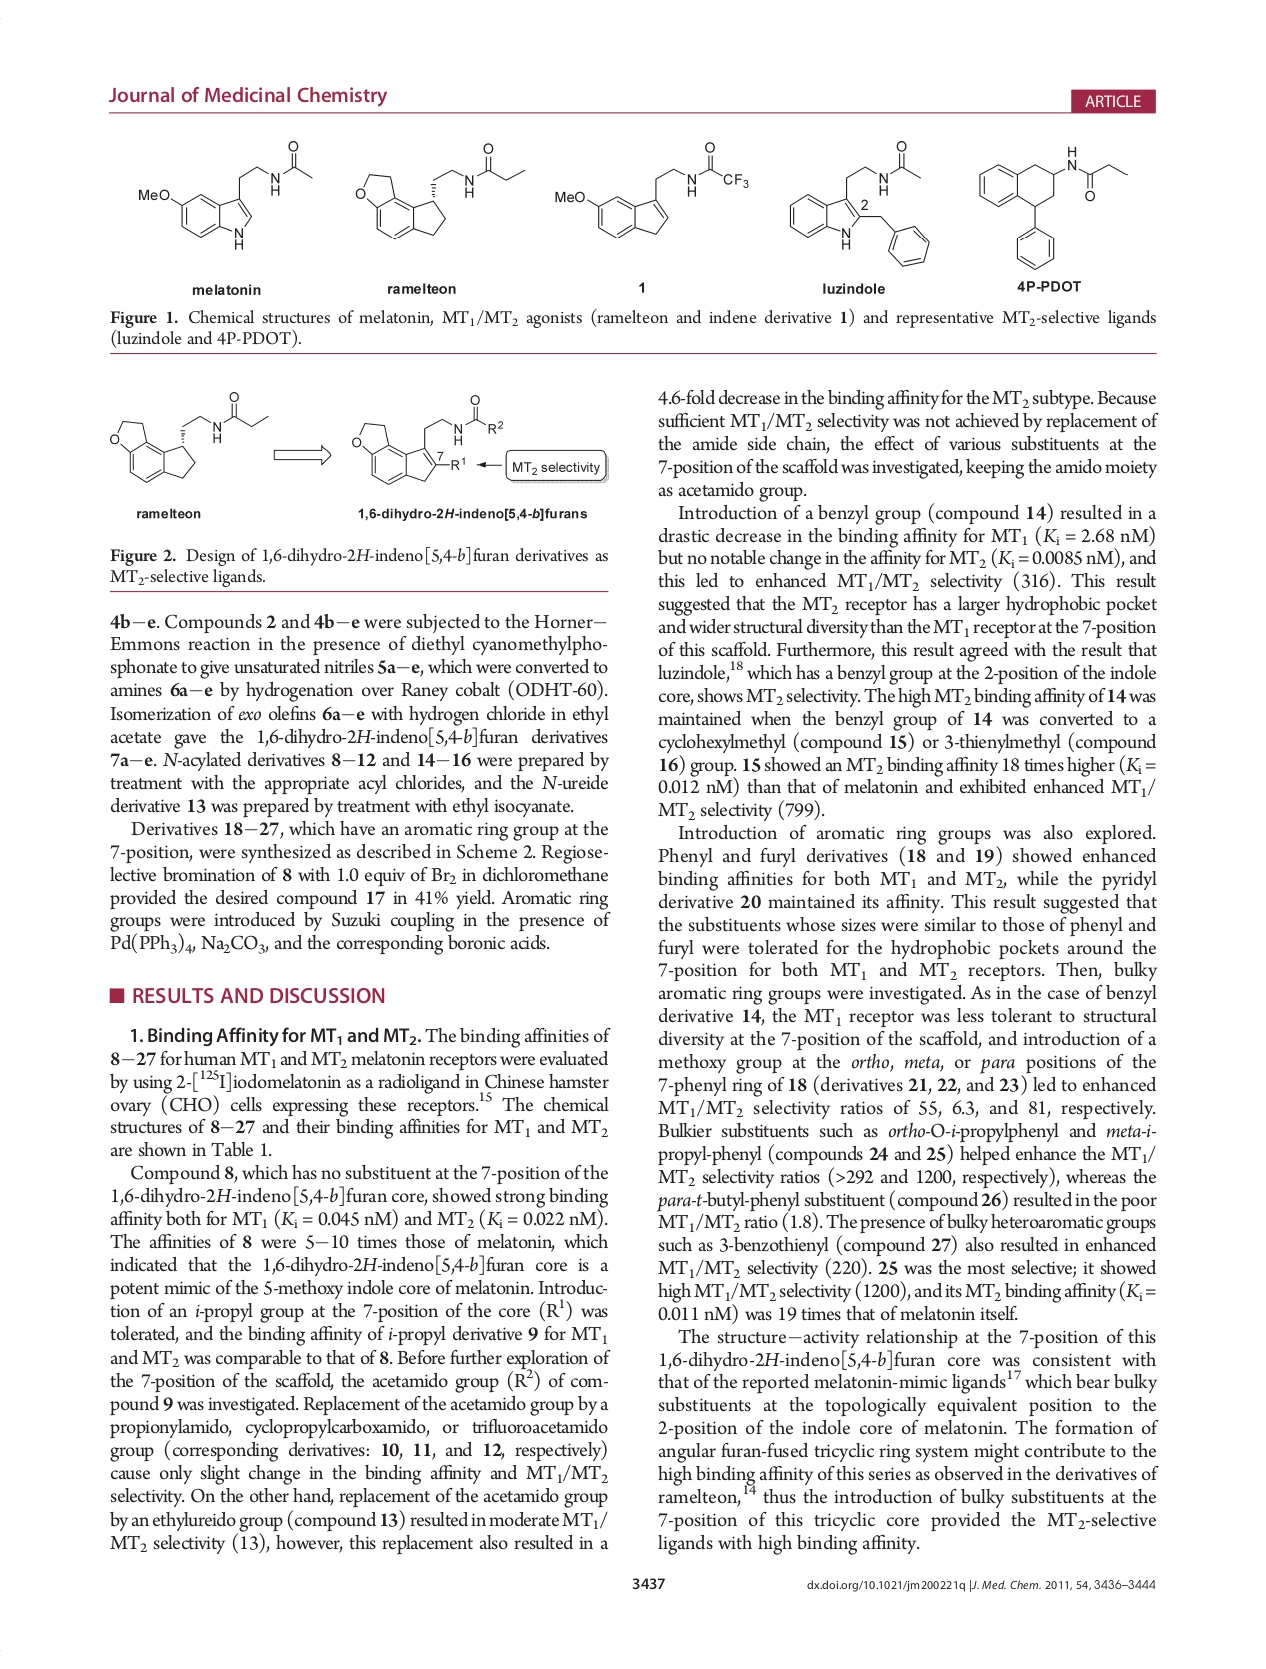exist_molecular: (136, 136, 316, 253), (552, 140, 749, 242), (973, 144, 1129, 270), (789, 138, 934, 271), (354, 142, 527, 242), (108, 386, 269, 483), (348, 392, 507, 485)
